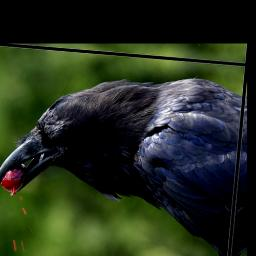Crow: (0, 61, 243, 256)
